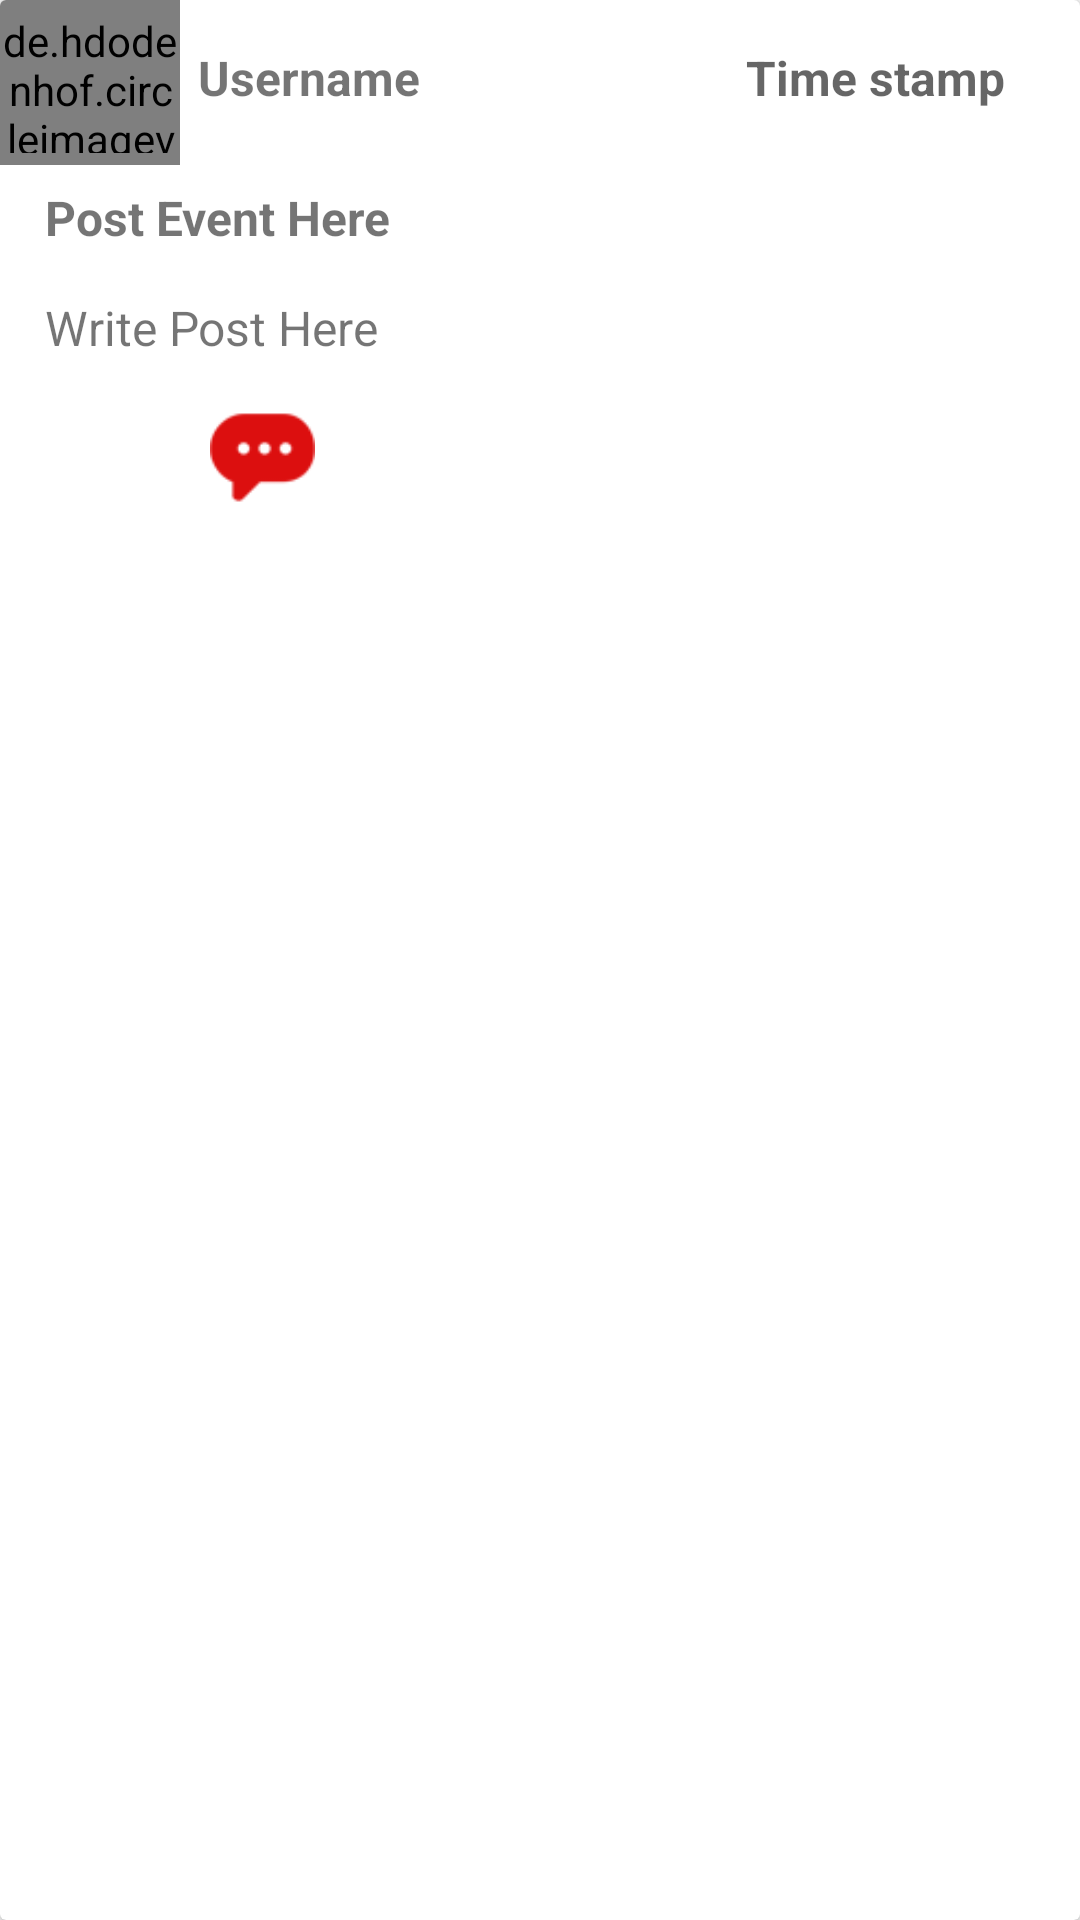

Screen size 1080×1920. Icon name, then its center in pixels as (x,y):
comment: (262,457)
